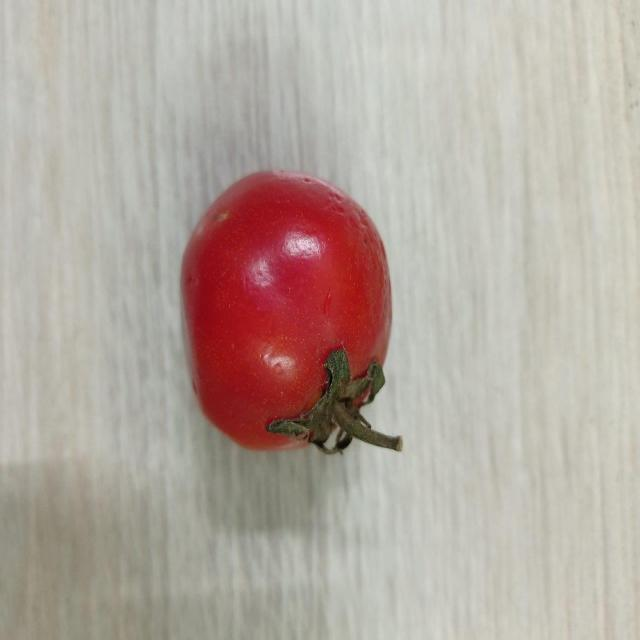Ripe: (178, 166, 398, 457)
